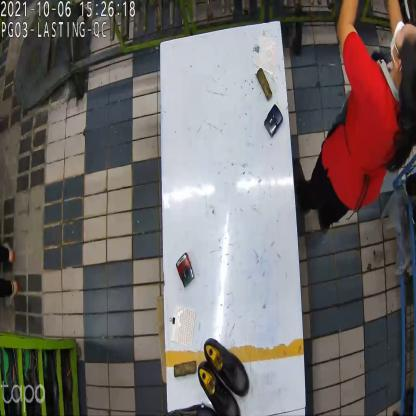shoes: (197, 342, 253, 415)
stamp: (266, 101, 283, 140), (177, 249, 193, 282)
